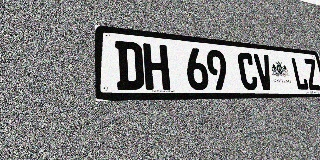6: (184, 47, 210, 90)
9: (205, 49, 229, 90)
C: (237, 52, 259, 90)
D: (115, 40, 144, 90)
H: (143, 43, 170, 90)
L: (290, 57, 309, 90)
V: (253, 54, 274, 90)
Z: (303, 58, 320, 90)
